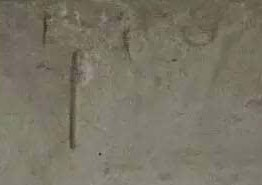Exposed reinforcement: (68, 50, 78, 150)
